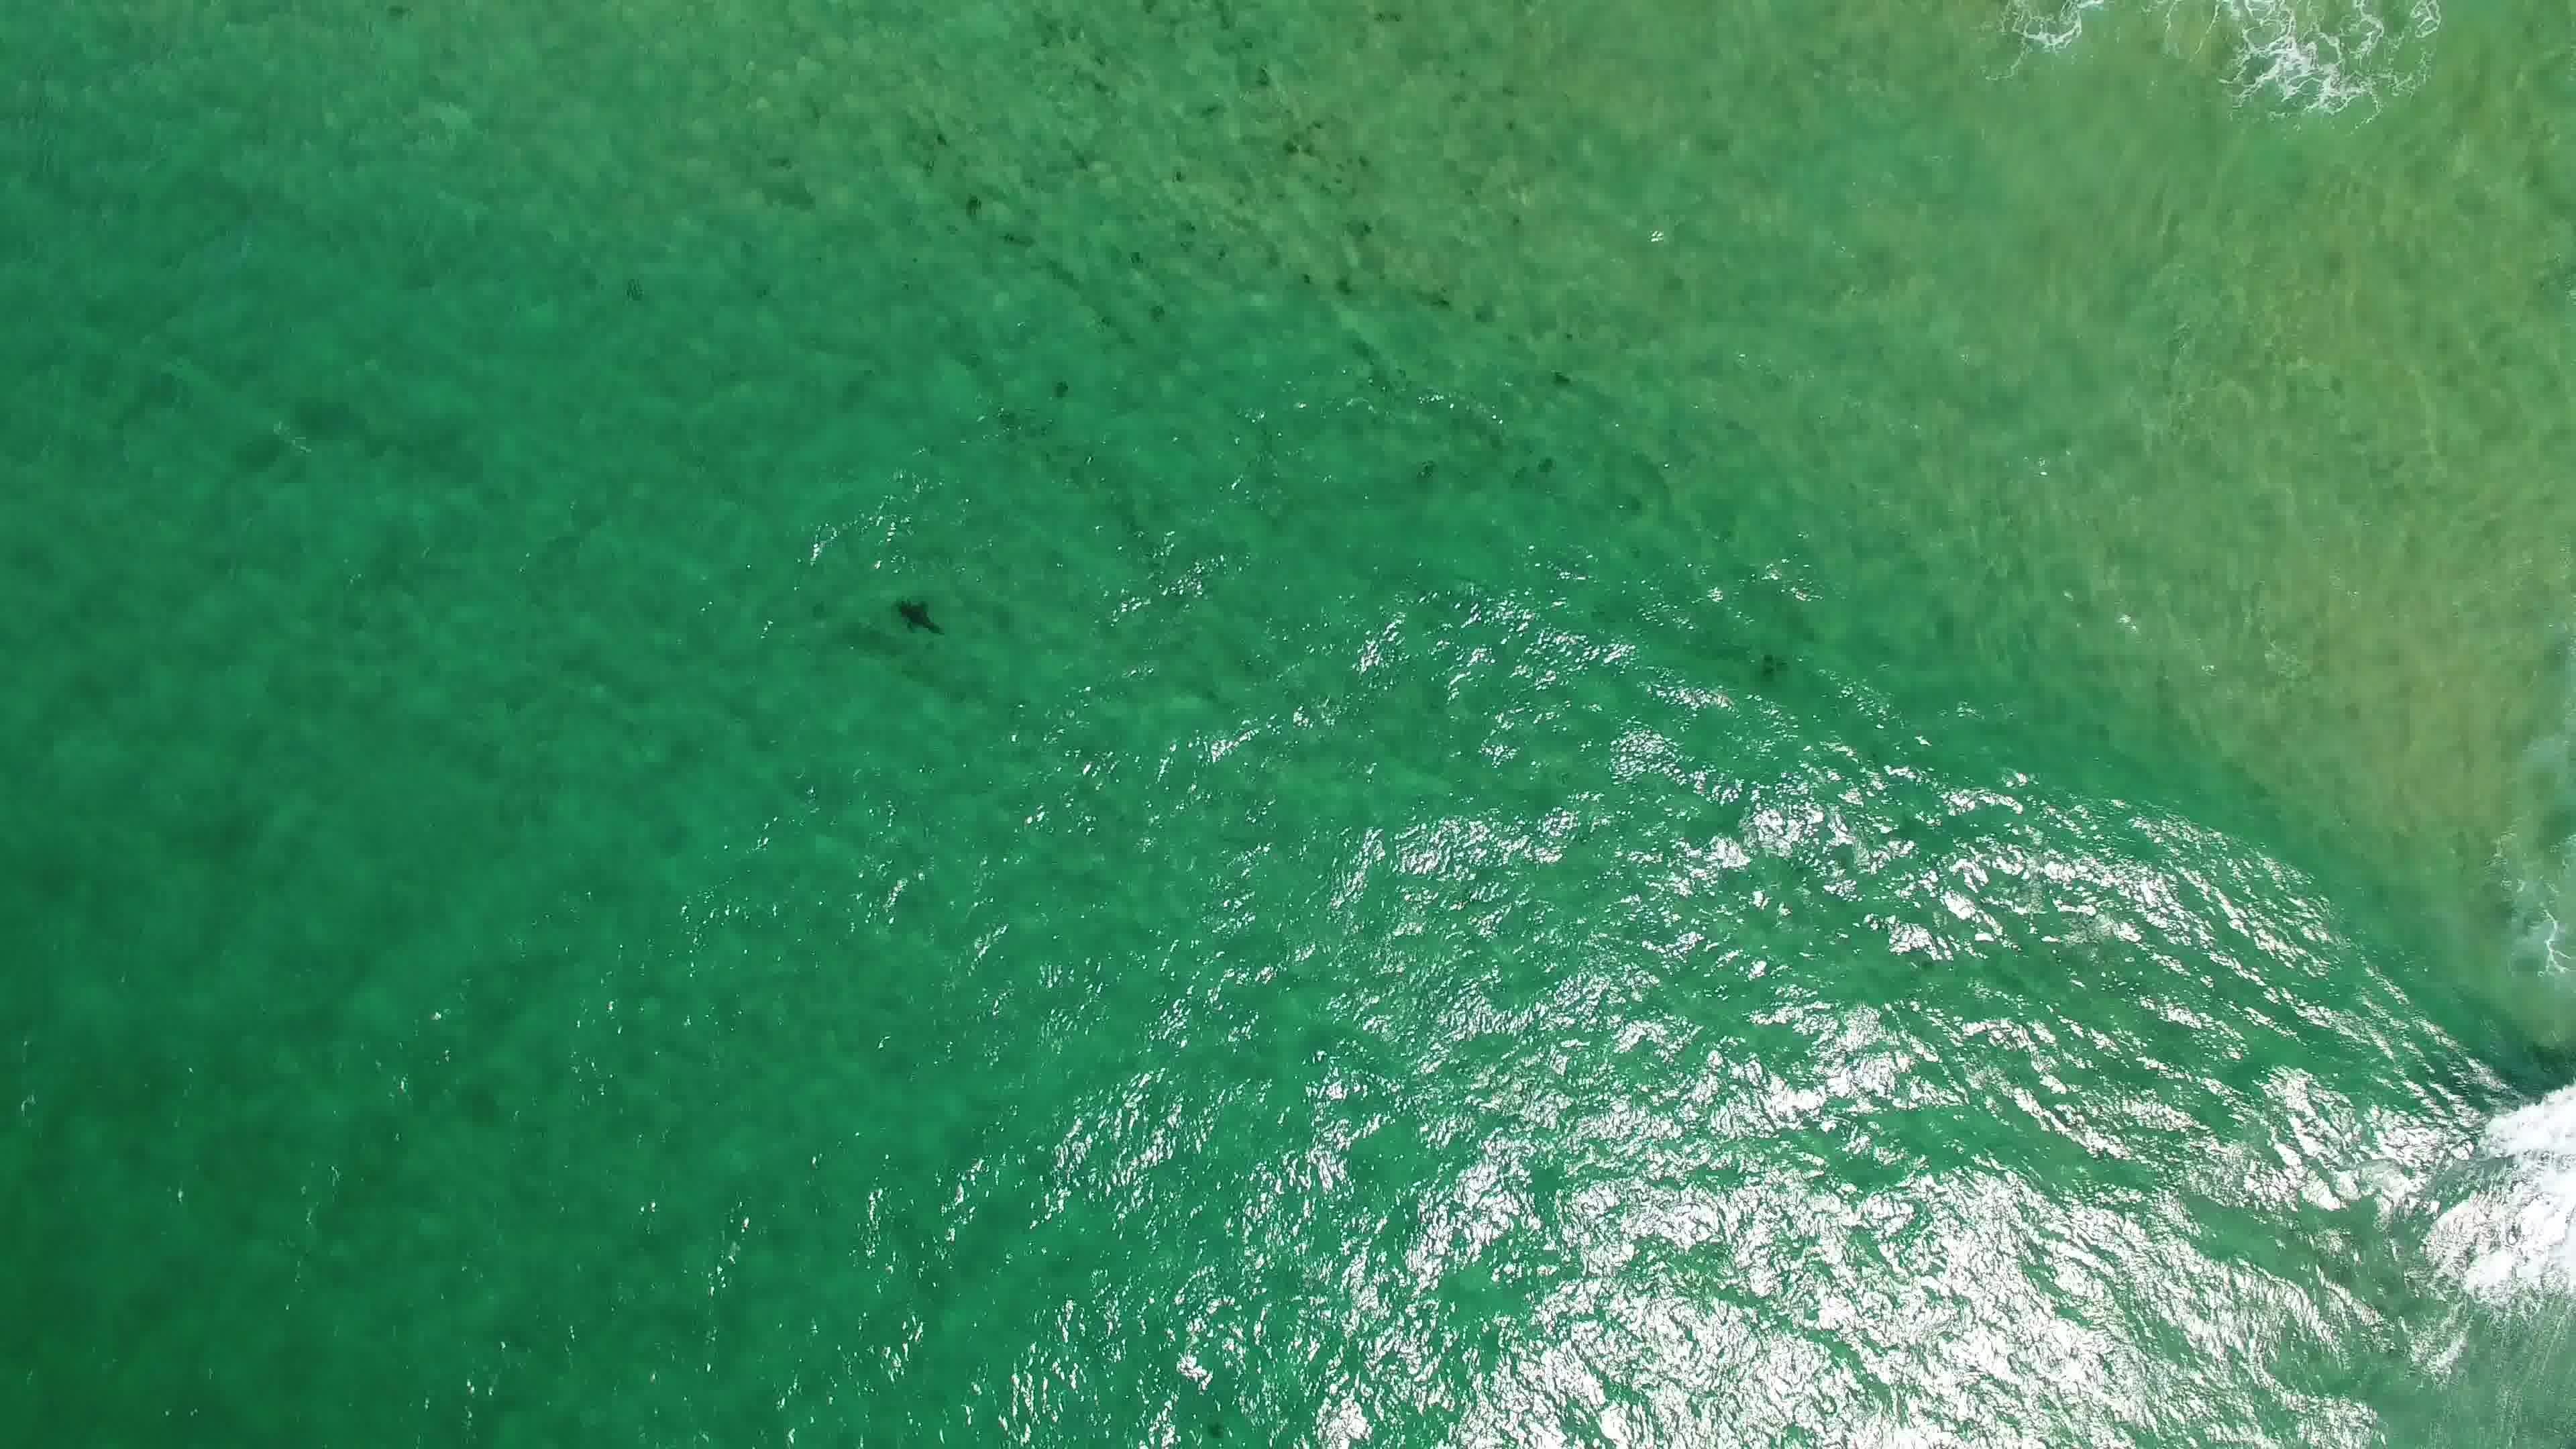shark: (892, 591, 950, 640)
